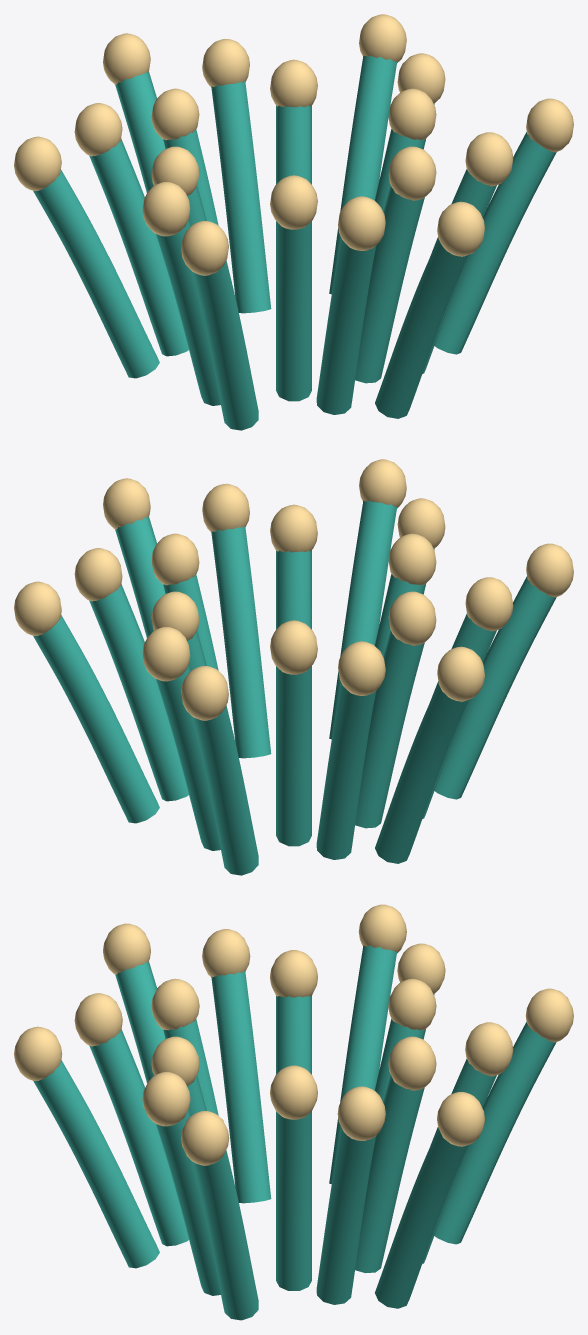
File: anemone.glb
3 views of the same model, one above another, from view 1: azimuth 30°, elevation 25°; view 2: azimuth 150°, elevation 25°; view 3: azimuth 270°, elevation 25° (orthographic).
Parts seen in each view (by area): view 1: Reef_Anemone.004, Reef_Anemone.008, Reef_Anemone.017, Reef_Anemone.007, Reef_Anemone.014, Reef_Anemone.012, Reef_Anemone.013, Reef_Anemone.015, Reef_Anemone.011, Reef_Anemone.002, Reef_Anemone.010, Reef_Anemone.005 (+22 smaller); view 2: Reef_Anemone.016, Reef_Anemone.002, Reef_Anemone.011, Reef_Anemone.001, Reef_Anemone.008, Reef_Anemone.006, Reef_Anemone.007, Reef_Anemone.009, Reef_Anemone.005, Reef_Anemone.014, Reef_Anemone.004, Reef_Anemone.017 (+22 smaller); view 3: Reef_Anemone.010, Reef_Anemone.014, Reef_Anemone.005, Reef_Anemone.013, Reef_Anemone.002, Reef_Anemone, Reef_Anemone.001, Reef_Anemone.003, Reef_Anemone.017, Reef_Anemone.008, Reef_Anemone.016, Reef_Anemone.011 (+22 smaller).
Boxes of the visible parts, x1,y1,x2,y2 form: Reef_Anemone.004: (211, 81, 271, 313); Reef_Anemone.008: (33, 170, 159, 378); Reef_Anemone.017: (434, 132, 556, 354); Reef_Anemone.007: (89, 138, 188, 356); Reef_Anemone.014: (375, 238, 468, 418); Reef_Anemone.012: (276, 221, 311, 401); Reef_Anemone.013: (316, 238, 375, 414); Reef_Anemone.015: (355, 185, 424, 383); Reef_Anemone.011: (192, 260, 258, 430); Reef_Anemone.002: (329, 55, 396, 294); Reef_Anemone.010: (156, 220, 220, 405); Reef_Anemone.005: (115, 72, 165, 192); Reef_Anemone.016: (211, 526, 271, 758); Reef_Anemone.002: (33, 615, 159, 823); Reef_Anemone.011: (434, 576, 556, 799); Reef_Anemone.001: (89, 584, 188, 801); Reef_Anemone.008: (375, 683, 468, 863); Reef_Anemone.006: (276, 666, 311, 846); Reef_Anemone.007: (316, 683, 375, 859); Reef_Anemone.009: (355, 630, 424, 828); Reef_Anemone.005: (192, 705, 258, 875); Reef_Anemone.014: (329, 500, 397, 739); Reef_Anemone.004: (156, 665, 220, 850); Reef_Anemone.017: (115, 516, 165, 637); Reef_Anemone.010: (211, 971, 271, 1203); Reef_Anemone.014: (33, 1060, 159, 1268); Reef_Anemone.005: (434, 1022, 556, 1244); Reef_Anemone.013: (89, 1029, 188, 1246); Reef_Anemone.002: (375, 1128, 468, 1308); Reef_Anemone: (276, 1111, 311, 1290); Reef_Anemone.001: (316, 1127, 375, 1304); Reef_Anemone.003: (355, 1075, 424, 1273); Reef_Anemone.017: (192, 1150, 258, 1320); Reef_Anemone.008: (329, 945, 396, 1183); Reef_Anemone.016: (156, 1110, 220, 1295); Reef_Anemone.011: (115, 961, 165, 1083).
Bounding box in the file's own units: 1.33 × 0.667 × 1.39.
